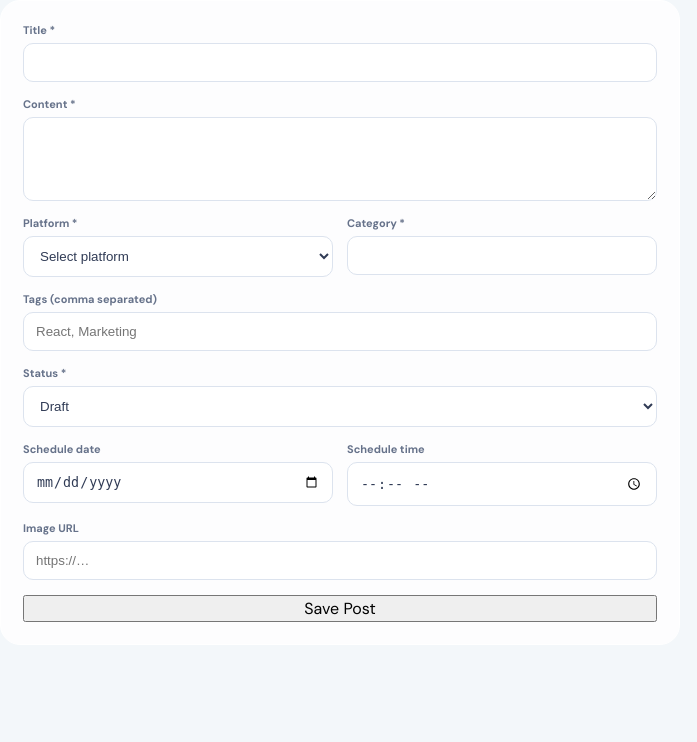
Scenario: PostForm › requires a schedule date/time only when status is Scheduled
Select "Scheduled" in the dropdown labelled "Status *": [340, 406] box [23,386,657,427]
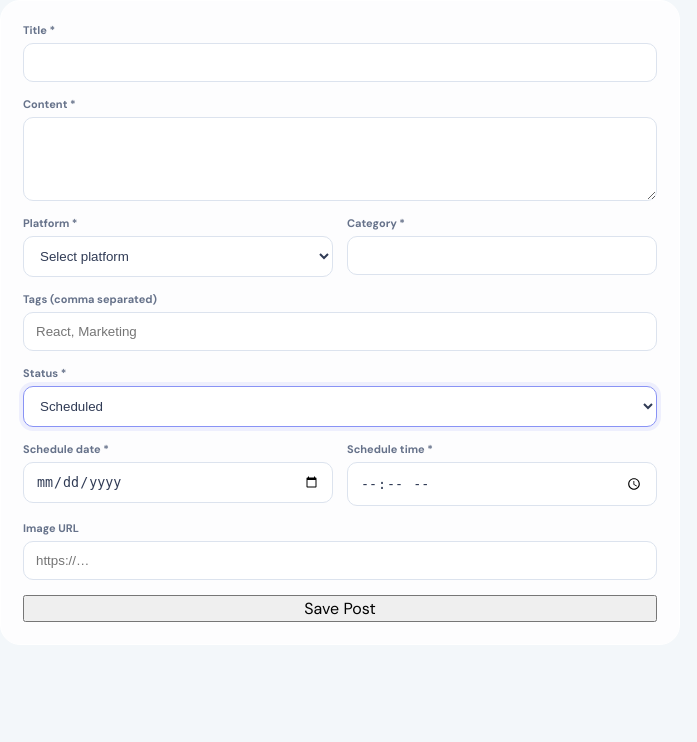
Click the button "Save Post": [340, 608] box [23,595,657,622]
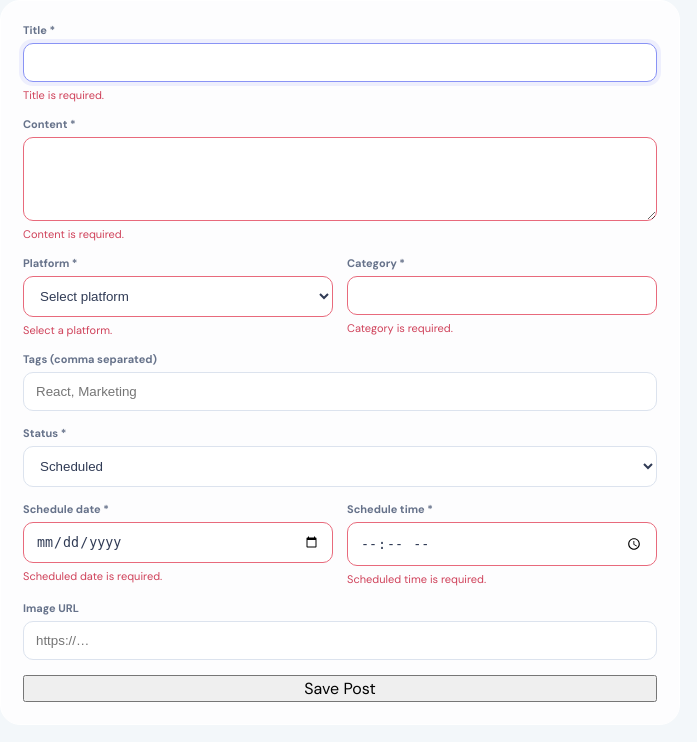
Check: the text "Scheduled date is required." is shown, box [23,569,162,583]
Check: the text "Scheduled time is required." is shown, box [347,572,486,586]
